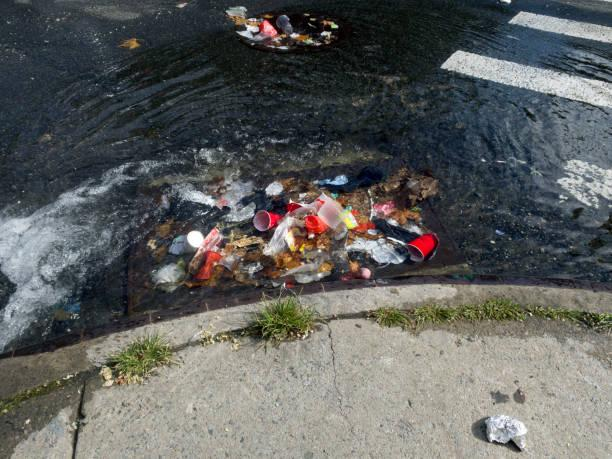trash: (52, 135, 467, 292), (213, 2, 345, 76), (474, 396, 533, 454)
